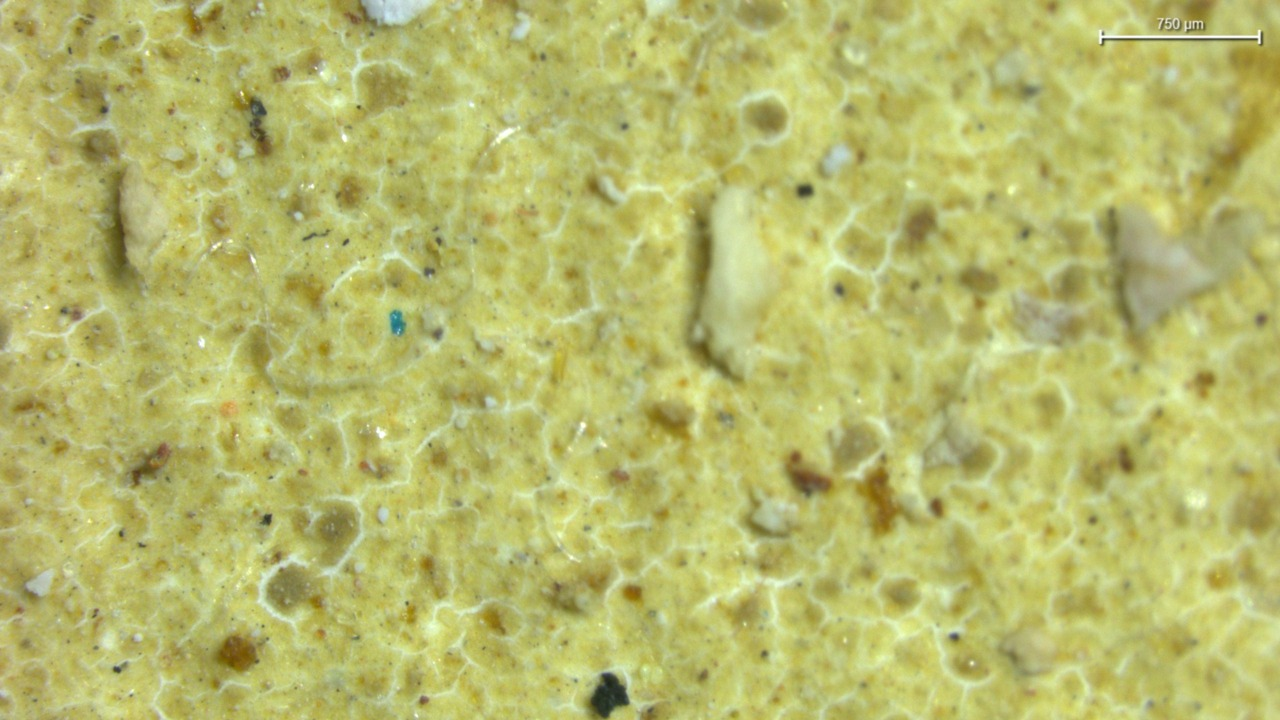microplastic_fragment: (693, 187, 776, 377), (1115, 206, 1215, 332), (119, 163, 168, 274), (749, 488, 798, 536)
